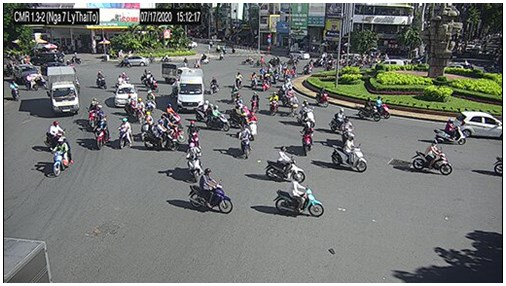xe_hoi: (453, 111, 501, 139), (12, 63, 40, 82), (371, 58, 403, 70)
xe_khach: (178, 71, 204, 112)
xe_may: (276, 173, 325, 218), (189, 168, 233, 214), (412, 139, 452, 177), (267, 146, 306, 183), (332, 134, 367, 172), (144, 119, 178, 153), (51, 136, 76, 177), (435, 118, 466, 146), (204, 104, 231, 132), (329, 108, 356, 136), (45, 122, 71, 150), (230, 98, 252, 129), (357, 97, 380, 123), (187, 143, 203, 180), (162, 104, 183, 132), (297, 100, 316, 129), (239, 124, 254, 160), (118, 118, 134, 151), (96, 104, 110, 137), (197, 98, 218, 119), (188, 120, 202, 151), (95, 118, 108, 150), (301, 121, 312, 156), (373, 95, 389, 119), (282, 86, 297, 108), (88, 97, 98, 127), (124, 95, 137, 118), (314, 88, 328, 109), (268, 92, 279, 116), (248, 112, 257, 141), (146, 87, 156, 113), (25, 73, 39, 91), (139, 68, 153, 86), (67, 51, 83, 66), (134, 97, 143, 123), (10, 80, 20, 102), (250, 92, 260, 114), (96, 70, 107, 89), (261, 73, 272, 92), (208, 76, 219, 94), (302, 61, 315, 76), (231, 85, 241, 104), (253, 55, 267, 67), (117, 56, 132, 67), (269, 56, 283, 67), (38, 73, 47, 90), (326, 55, 335, 72), (115, 74, 125, 89), (273, 68, 281, 85), (199, 53, 211, 64), (235, 71, 242, 89), (250, 72, 257, 90), (159, 54, 173, 63), (289, 65, 298, 78), (288, 54, 298, 65), (193, 59, 200, 69)
xe_tai: (45, 66, 81, 114), (161, 62, 189, 82)
